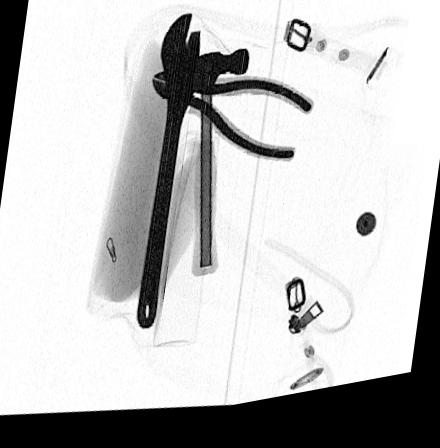Hammer: (156, 55, 250, 283)
Pliers: (149, 72, 311, 173)
Wrench: (137, 16, 201, 333)
